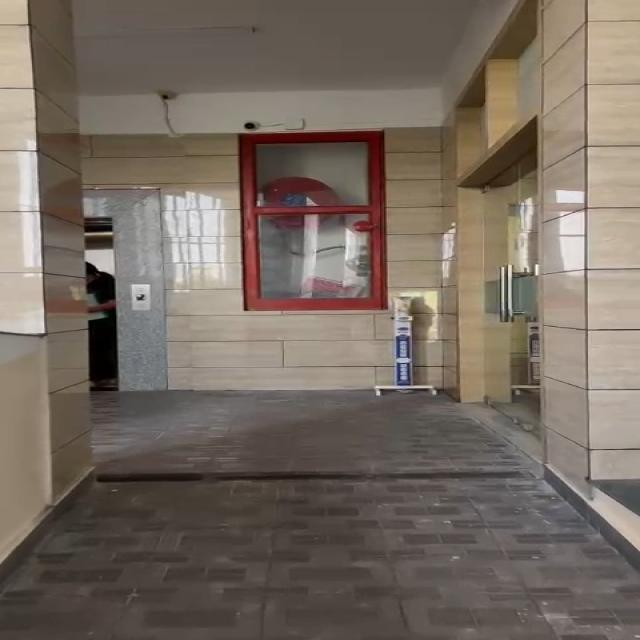door: (230, 124, 400, 335)
floor: (91, 380, 553, 640)
wall: (488, 6, 640, 481), (0, 0, 102, 540)
